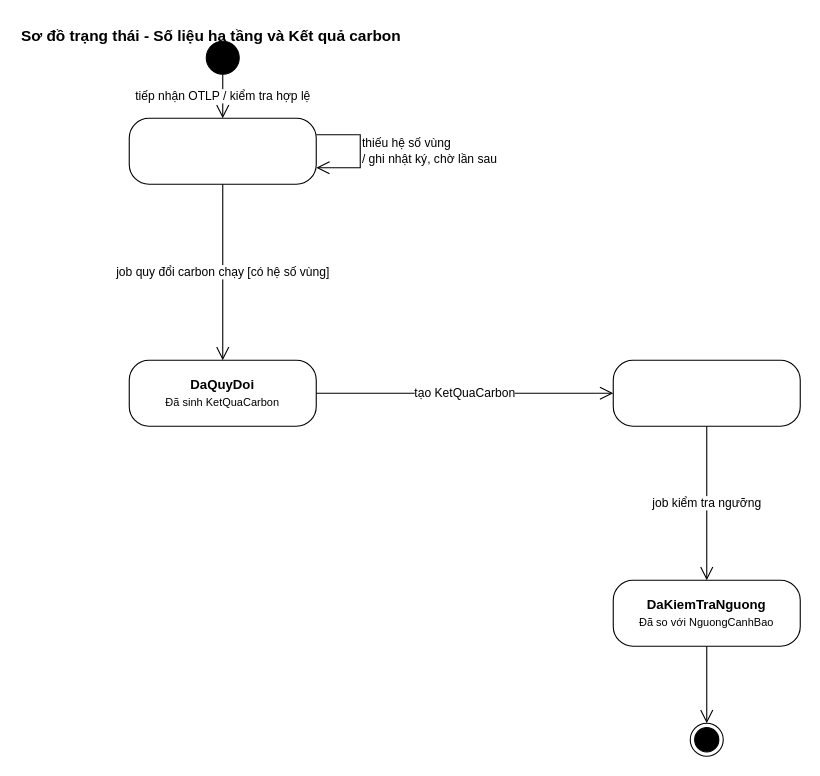
Image size: 820x776. Some labels were removed from this diagram. Here are the shapes that lost their labels. From the top down, the box of each, then its label:
(128, 117, 316, 184): DaChuanHoa SoLieuHaTang vừa tiếp nhận từ OTel
(612, 359, 800, 426): ChuaKiemTraNguong KetQuaCarbon.DaKiemTraNguong = 0
